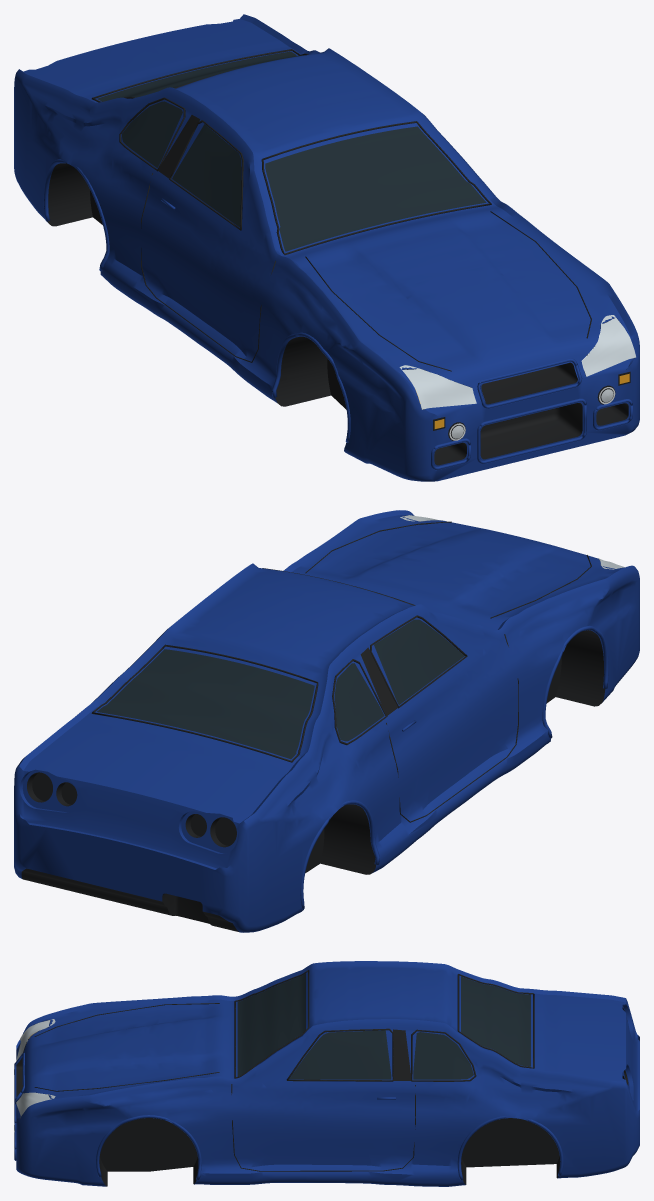
Rendered from nissan_skyline_gtr_r34.glb.
3 renders of one model, top to bottom at view 1: azimuth 30°, elevation 25°; view 2: azimuth 150°, elevation 25°; view 3: azimuth 270°, elevation 25°, orthographic. The views are drawn at different scales.
Parts seen in each view (by area): view 1: R34 body, Windscreen, Door glass, Quarter glass, Headlamp cover, Rear window, Headlamp cover.001, Windscreen seal, Rolled lip, Rolled lip.001, Arch lip, B pillar (+1 smaller); view 2: R34 body, Rear window, Door glass, Quarter glass, Rear window seal, B pillar, Arch lip, Arch lip.001, Door glass seal; view 3: R34 body, Windscreen, Rear window, Door glass.001, Quarter glass.001, B pillar.001, Arch lip.002, Rear window seal, Arch lip.003, Door glass seal.001, Windscreen seal, Door line.001 (+3 smaller).
Part boxes in pixels (x1,y1,x2,y2): R34 body: (14,14,639,481); Windscreen: (265,126,486,251); Door glass: (172,124,241,227); Quarter glass: (122,101,182,167); Headlamp cover: (399,365,476,409); Rear window: (97,51,303,101); Headlamp cover.001: (582,315,635,376); Windscreen seal: (261,121,491,254); Rolled lip: (477,398,586,463); Rolled lip.001: (477,358,582,408); Arch lip: (272,332,350,442); B pillar: (158,115,199,178); R34 body: (14,510,639,932); Rear window: (97,649,314,759); Door glass: (374,619,464,704); Quarter glass: (334,663,384,741); Rear window seal: (91,644,318,762); B pillar: (360,647,398,715); Arch lip: (542,625,608,738); Arch lip.001: (300,800,379,909); Door glass seal: (370,615,467,708); R34 body: (16,961,639,1186); Windscreen: (237,973,305,1076); Rear window: (461,976,530,1066); Door glass.001: (289,1030,391,1079); Quarter glass.001: (413,1032,473,1079); B pillar.001: (393,1029,411,1080); Arch lip.002: (96,1115,201,1180); Rear window seal: (457,974,534,1068); Arch lip.003: (457,1116,563,1180); Door glass seal.001: (286,1028,393,1081); Windscreen seal: (234,970,309,1078); Door line.001: (231,1084,415,1171).
Bounding box in the file's own units: 1.81 × 1.23 × 4.61.
